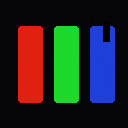4 line_v: (103, 23, 109, 41)
